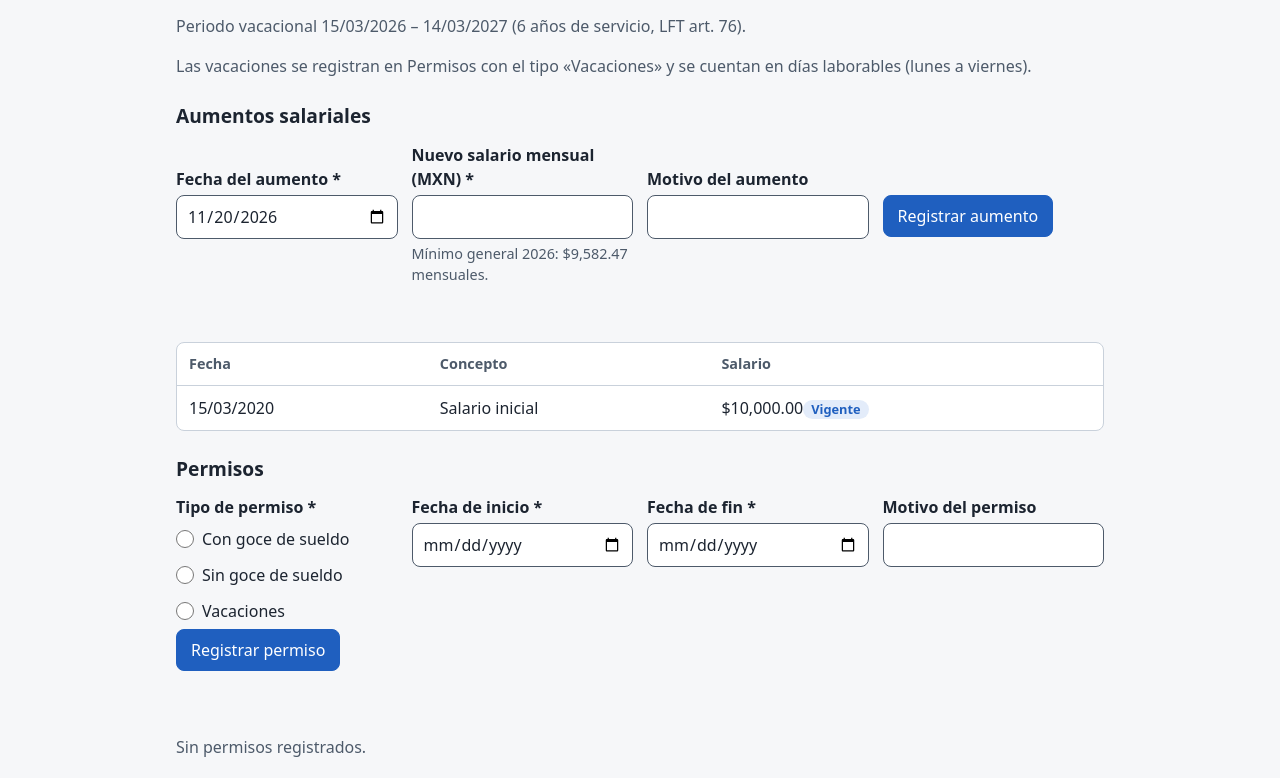
Scenario: vacaciones (A6) › criterio de aceptación: ingreso 15/03/2020 → 22; vacaciones 30/11–06/12/2026 → usados 5, restantes 17
(page scrolled)
Expected: the text "Periodo vacacional 15/03/2026 – 14/03/2027 (6 años de servicio" is shown, [176,15,746,37]
Step 1. Click the radio button labelled "Vacaciones" → (185, 611), box [176,602,194,620]
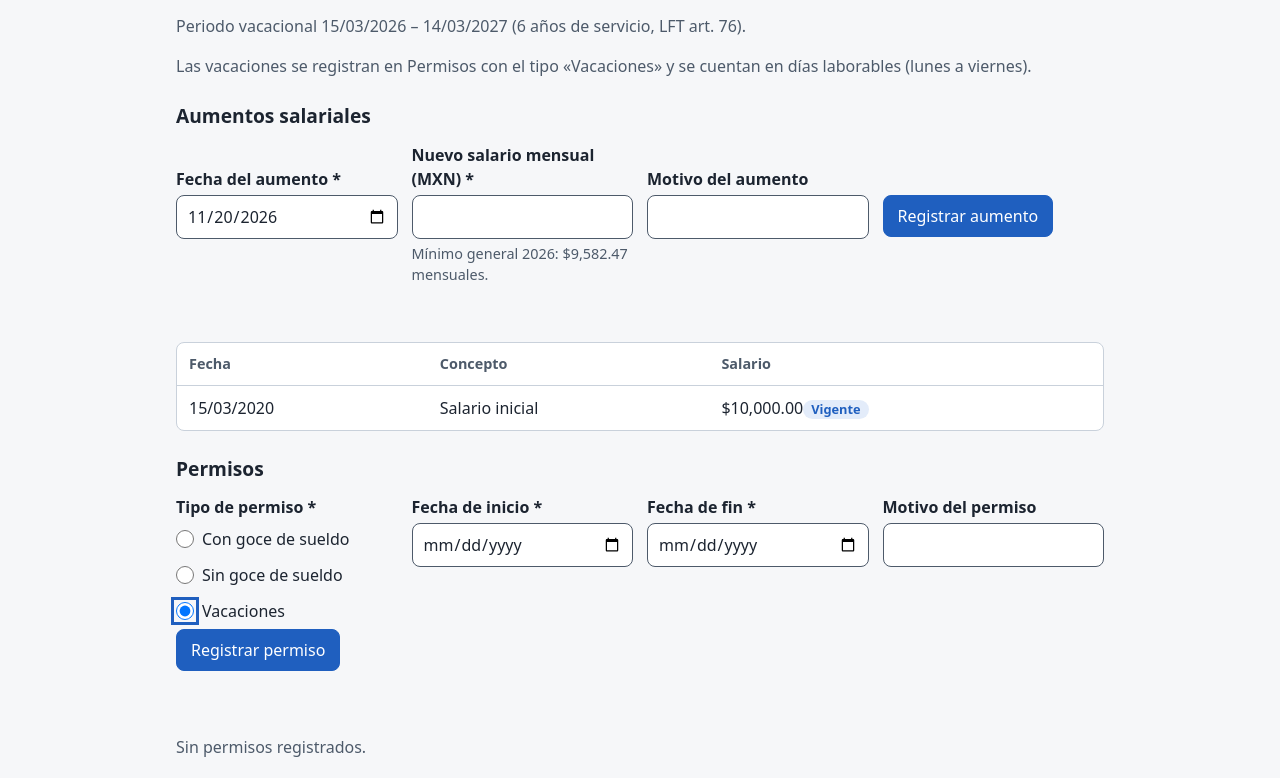
Step 2. Type "2026-11-30" into the date field labelled "Fecha de inicio *" → (522, 545), box [412,523,633,567]
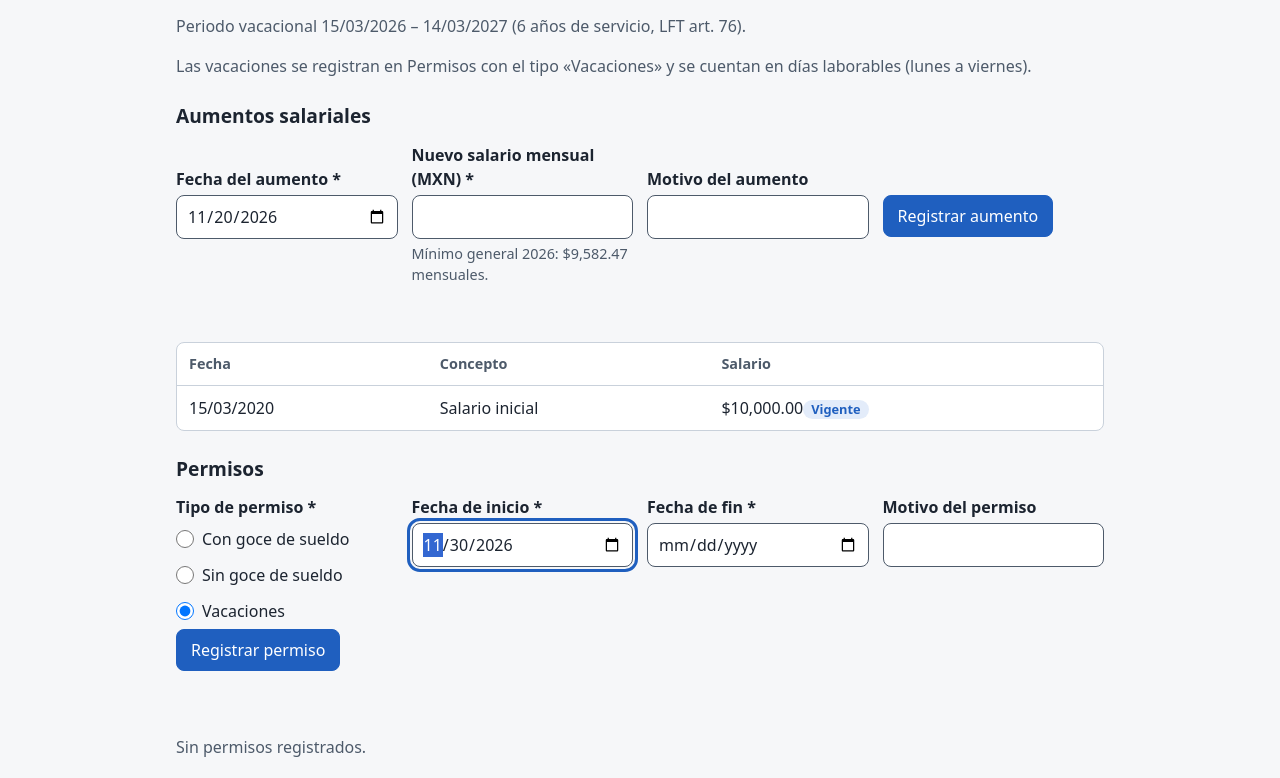
Step 3. Type "2026-12-06" into the date field labelled "Fecha de fin *" → (758, 545), box [647,523,868,567]
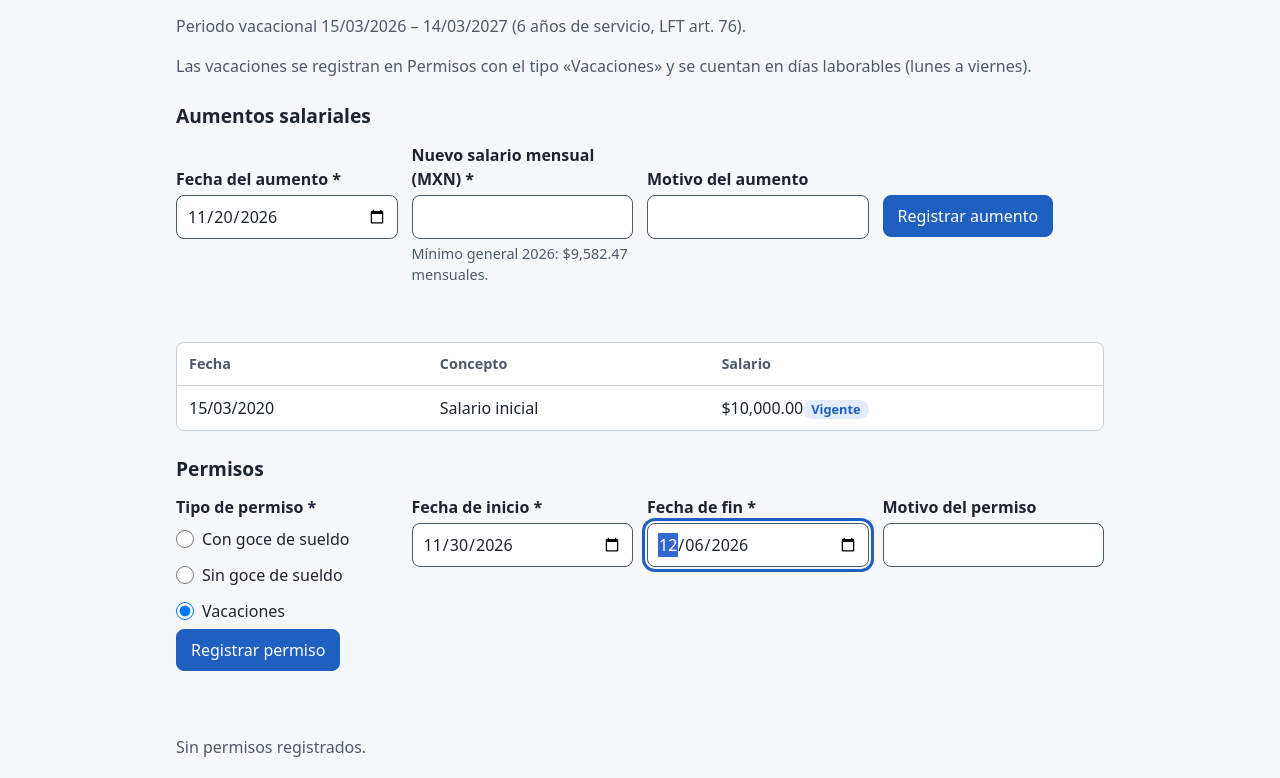
Step 4. Click the button "Registrar permiso" → (258, 650), box [176,629,340,671]
(page scrolled)
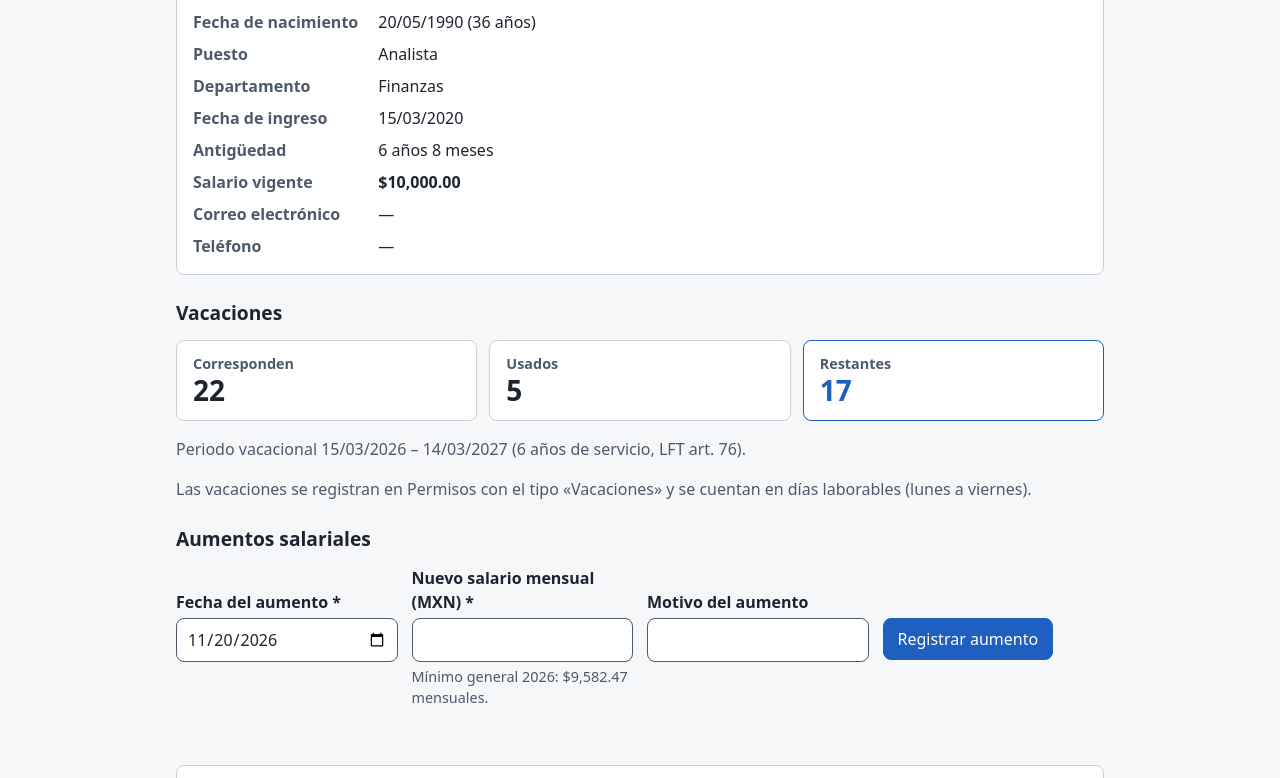
Now the text "5" is shown, box [506,371,522,409]
Now the text "17" is shown, box [820,371,852,409]
